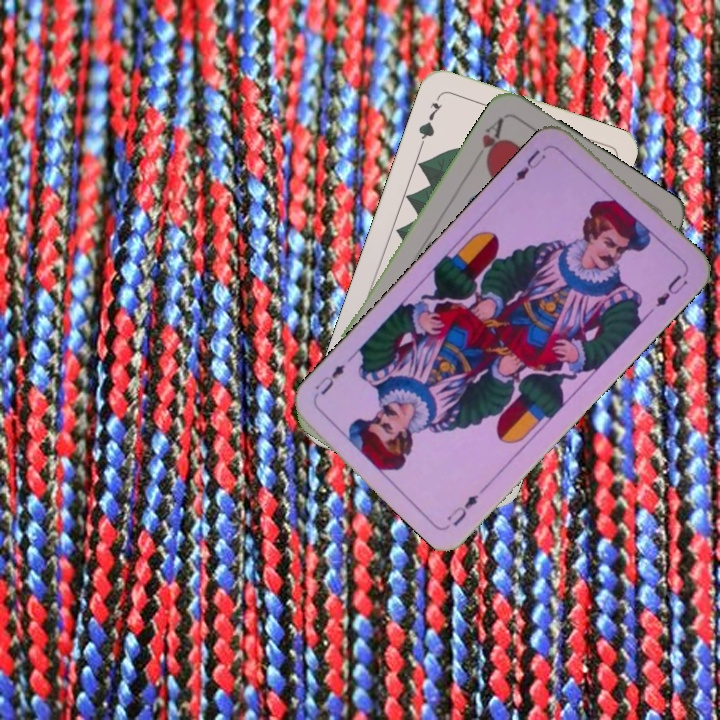EU: (442, 481, 490, 529), (506, 145, 549, 188)
G7: (414, 98, 445, 148)
HA: (477, 113, 507, 169)
